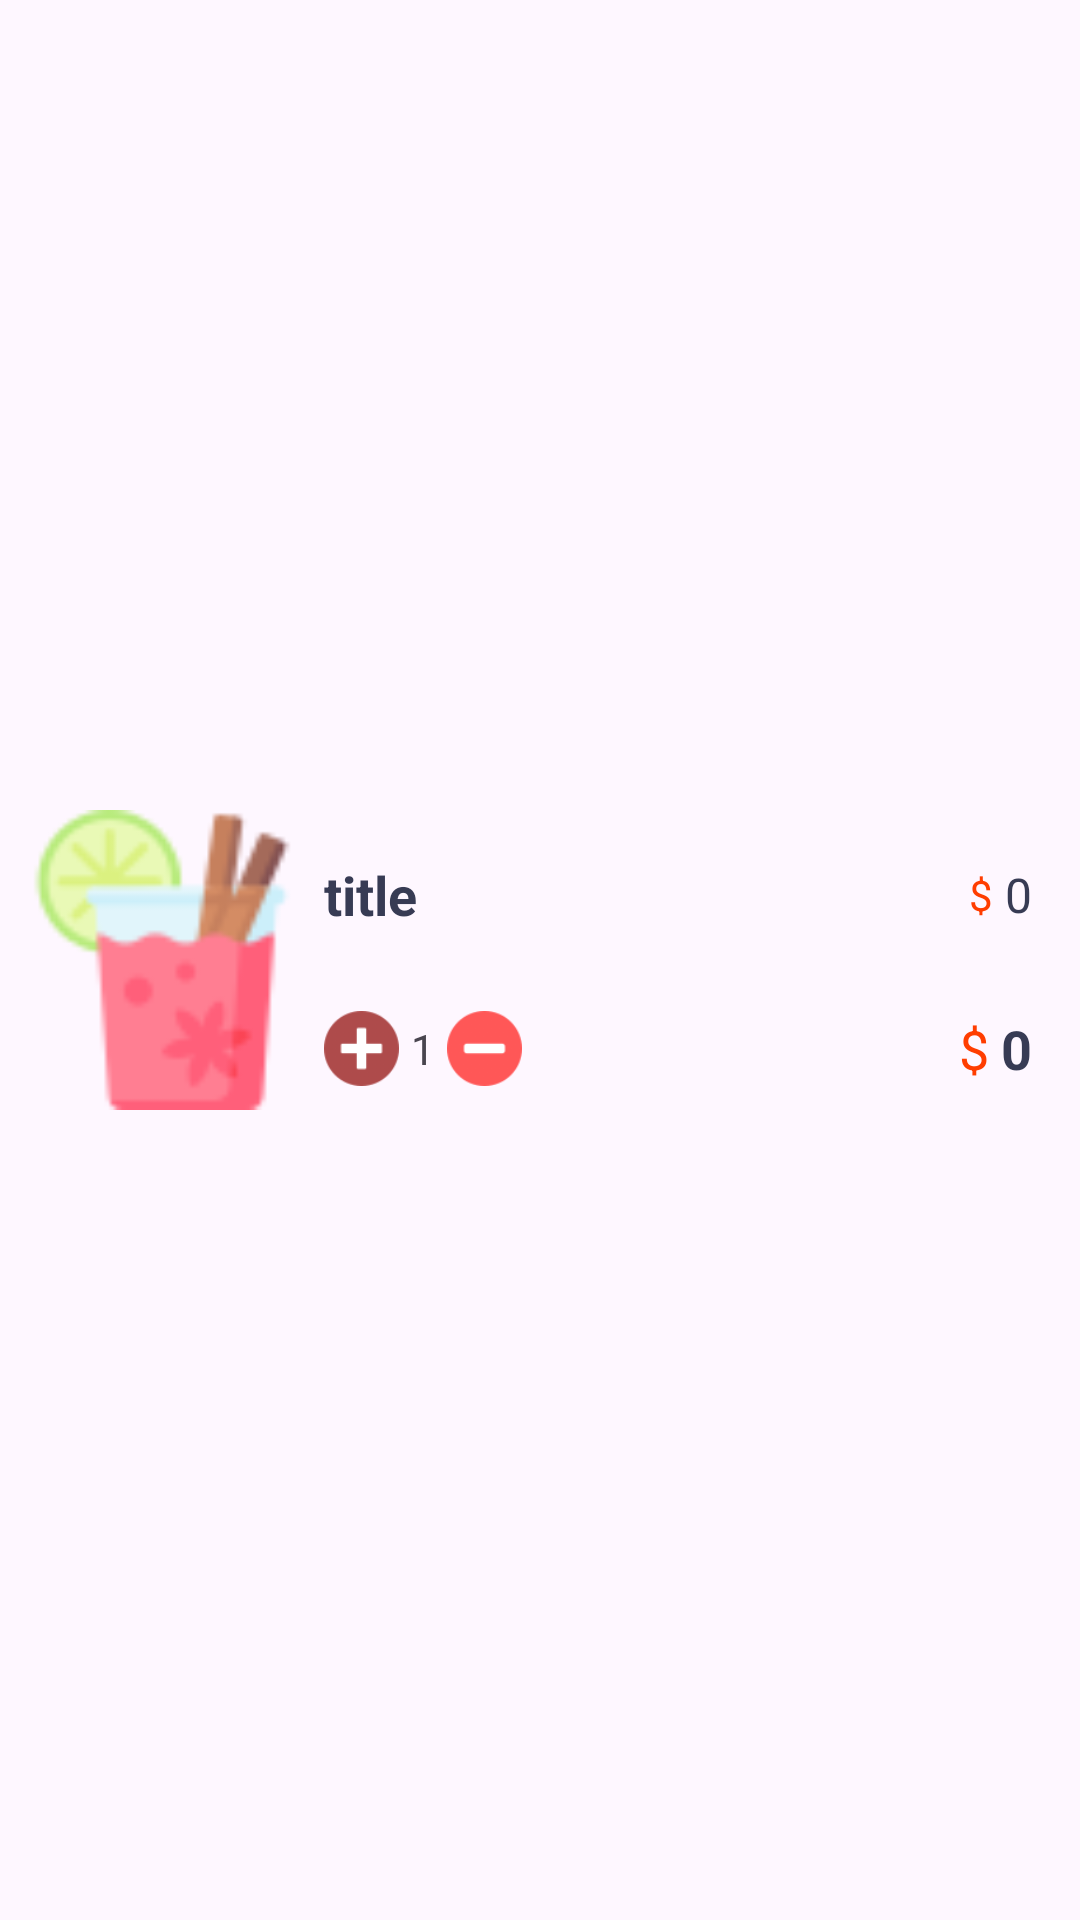

Icon bounding boxes for this 1080×1920 phone screenshot, format (x1, y1, x2, y2):
cocktail: (35, 810, 289, 1110)
minus: (447, 1011, 522, 1086)
plus: (324, 1011, 399, 1086)
